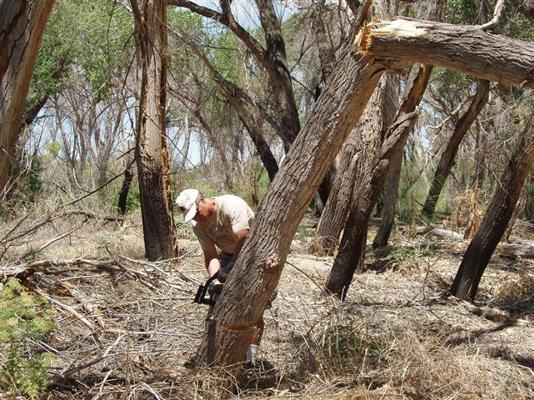person: (174, 189, 272, 369)
